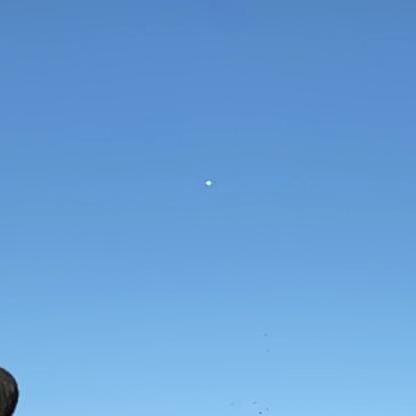golfball: (203, 177, 213, 187)
